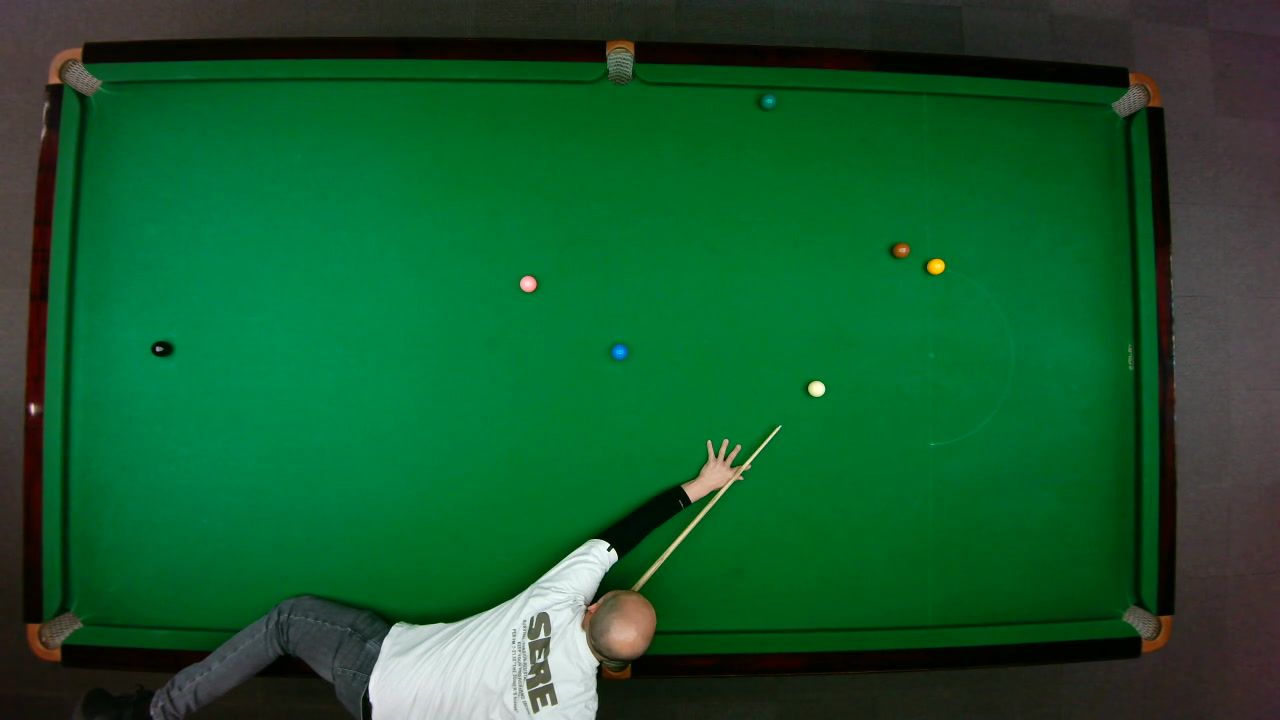bag: (25, 609, 83, 661), (45, 47, 101, 96), (1119, 603, 1172, 652), (1108, 71, 1161, 118), (600, 624, 633, 684), (605, 38, 633, 85)
black: (149, 339, 171, 357)
blue: (610, 343, 628, 360)
brown: (890, 241, 911, 258)
cue: (633, 424, 782, 590)
green: (758, 92, 776, 110)
pink: (517, 273, 537, 293)
white: (805, 379, 826, 397)
yellow: (925, 256, 945, 275)
zone: (927, 266, 1013, 445)
